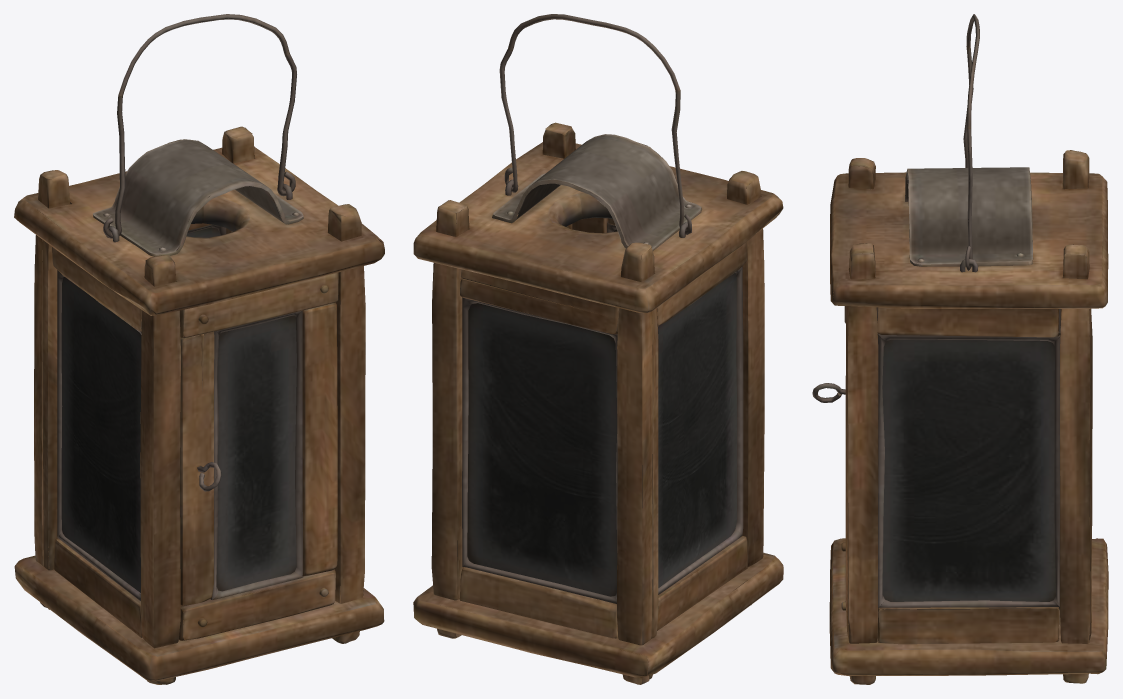
Rendered from wooden_lantern_01.glb.
The picture shows the model from 3 angles, left to right: view 1: azimuth 30°, elevation 25°; view 2: azimuth 150°, elevation 25°; view 3: azimuth 270°, elevation 25°; orthographic projection.
Parts seen in each view (by area): view 1: wooden_lantern_01, wooden_lantern_01_door, wooden_lantern_01_handle; view 2: wooden_lantern_01, wooden_lantern_01_handle, wooden_lantern_01_door; view 3: wooden_lantern_01, wooden_lantern_01_handle, wooden_lantern_01_door.
Part boxes in pixels (box(x1,y1,x2,y2)): wooden_lantern_01: box(14, 126, 384, 684); wooden_lantern_01_door: box(179, 272, 338, 640); wooden_lantern_01_handle: box(103, 14, 296, 238); wooden_lantern_01: box(413, 122, 783, 684); wooden_lantern_01_handle: box(499, 14, 691, 234); wooden_lantern_01_door: box(572, 217, 617, 233); wooden_lantern_01: box(829, 150, 1108, 684); wooden_lantern_01_handle: box(963, 14, 979, 270); wooden_lantern_01_door: box(812, 306, 846, 610).
Size of the model in its own units: 0.221 by 0.5301 by 0.2348.
Materials: 2 (2 with a texture image).
